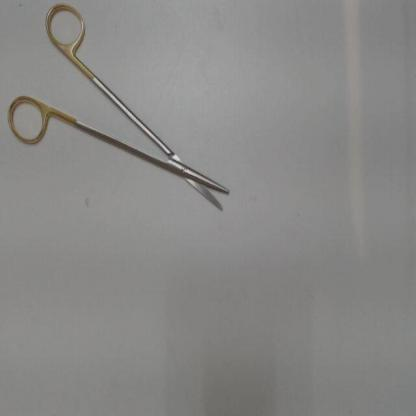7 Metzenbaum Scissors: (5, 2, 234, 221)
